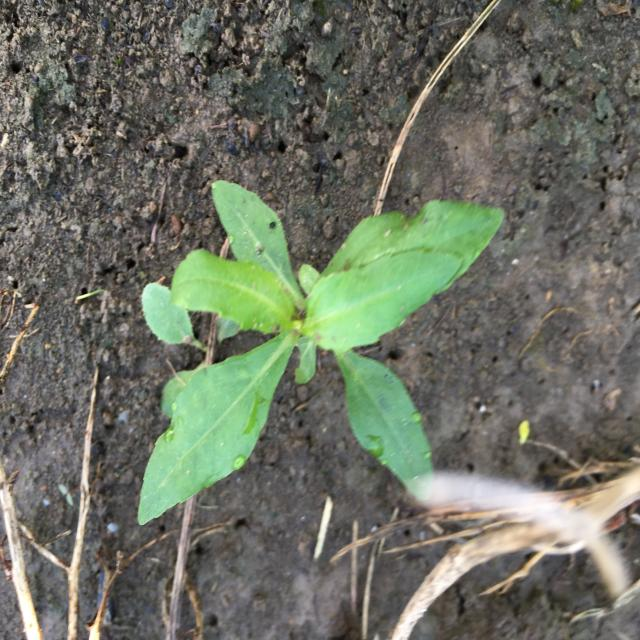Eclipta: (135, 178, 508, 530)
